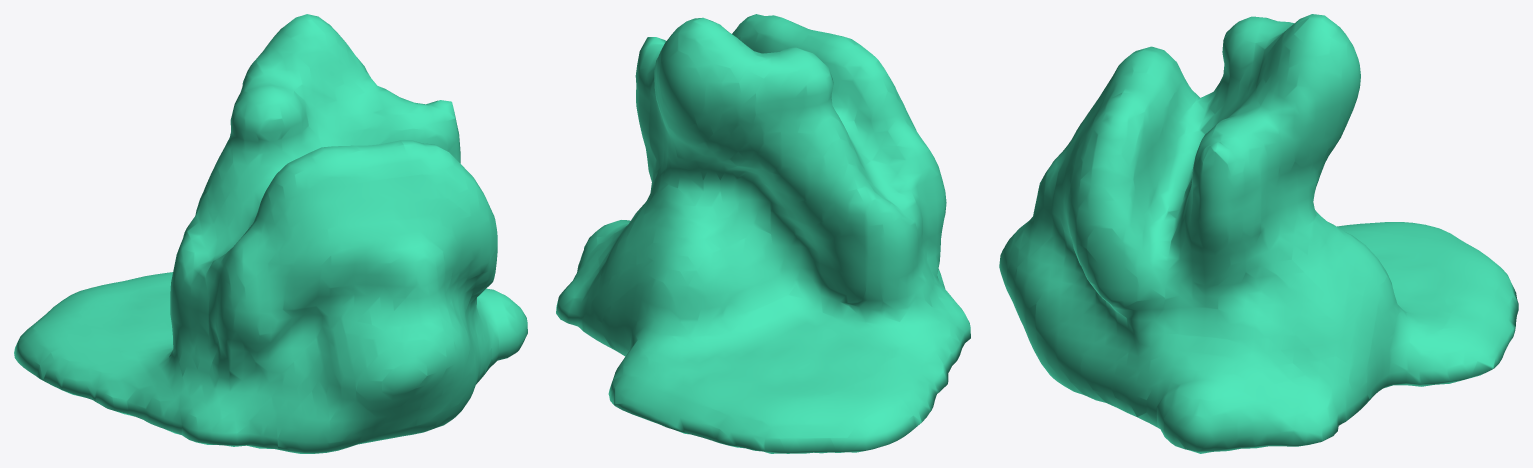
3 views of the same model, side by side, from view 1: azimuth 30°, elevation 25°; view 2: azimuth 150°, elevation 25°; view 3: azimuth 270°, elevation 25° (orthographic). The views are drawn at different scales.
Parts seen in each view (by area): view 1: Liquid_Domain; view 2: Liquid_Domain; view 3: Liquid_Domain.
Part boxes in pixels (<box>): Liquid_Domain: <box>14,14,527,453</box>; Liquid_Domain: <box>556,14,970,453</box>; Liquid_Domain: <box>999,14,1518,453</box>.
Bounding box in the file's own units: 5.5 × 4.29 × 5.6.
